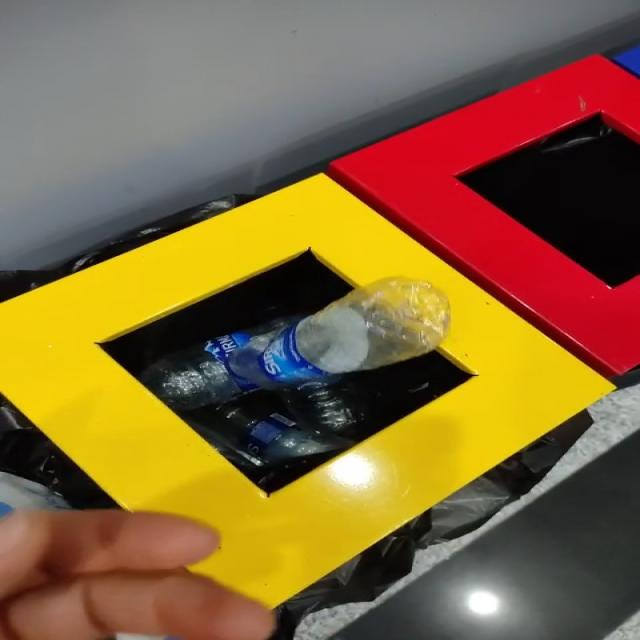plastic: (139, 277, 451, 464)
